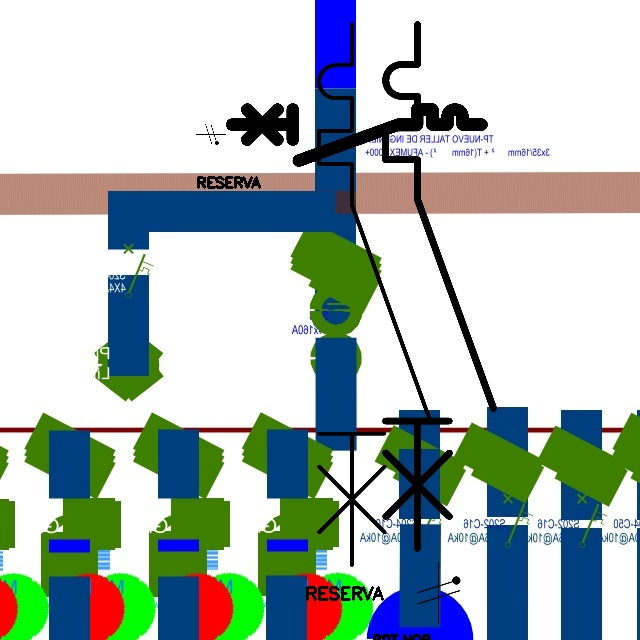interruptor_termomagnetico: (305, 10, 444, 579), (372, 11, 507, 562), (225, 103, 487, 167)
